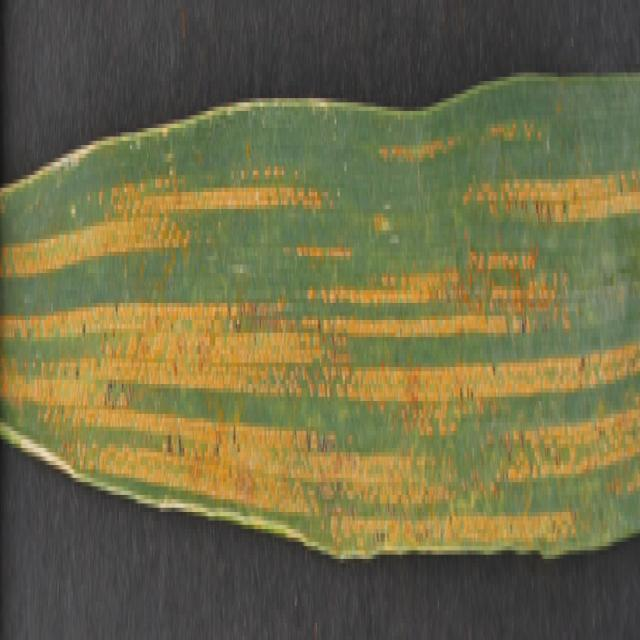leaf rust: (1, 111, 638, 546)
